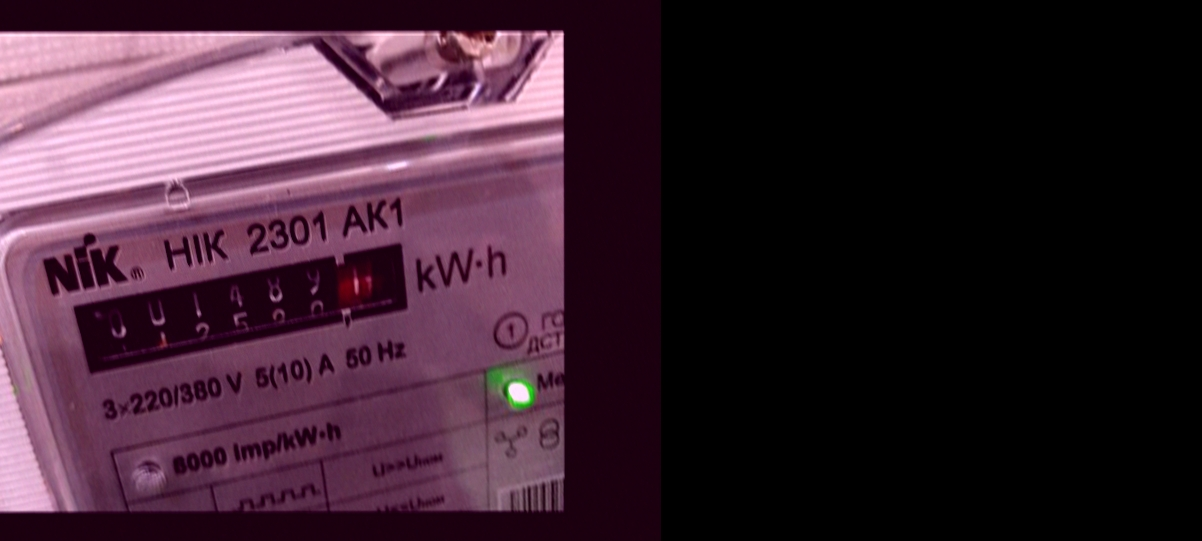0: (143, 292, 170, 328), (105, 306, 130, 341)
1: (346, 260, 365, 298), (187, 288, 208, 319)
4: (225, 278, 247, 309)
8: (265, 270, 286, 306)
9: (304, 264, 324, 296)
screen: (62, 234, 438, 385)
